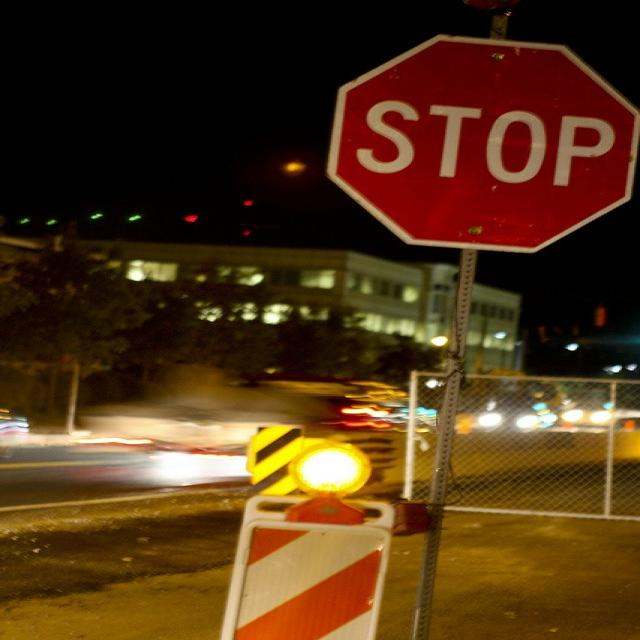car: (472, 378, 562, 431), (565, 392, 639, 430)
pole: (402, 248, 484, 639)
